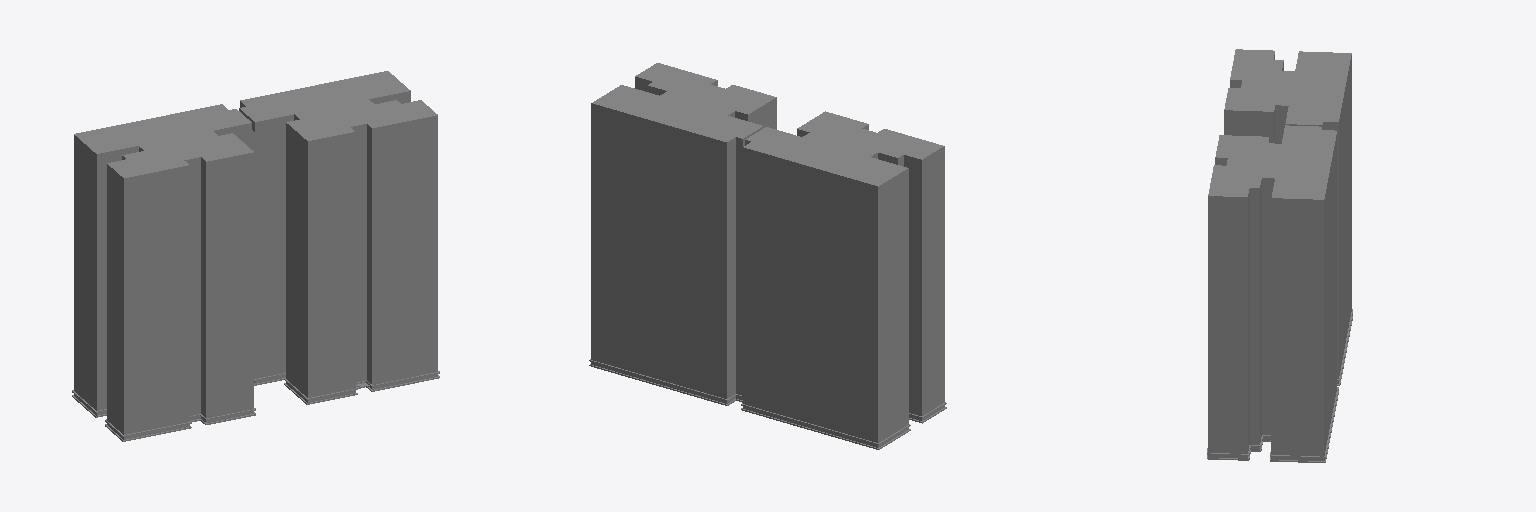
The picture shows the model from 3 angles: view 1: azimuth 30°, elevation 25°; view 2: azimuth 150°, elevation 25°; view 3: azimuth 270°, elevation 25°; orthographic projection.
Parts seen in each view (by area): view 1: JZ_JX_636; view 2: JZ_JX_636; view 3: JZ_JX_636.
Part boxes in pixels (x1,y1,x2,y2): JZ_JX_636: (72,71,439,441); JZ_JX_636: (589,63,946,449); JZ_JX_636: (1207,49,1352,462).
Bounding box in the file's own units: 4812 × 3880 × 1966.